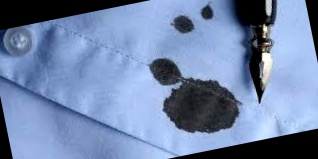ink: (161, 73, 244, 141), (149, 55, 182, 87), (171, 14, 194, 35), (201, 5, 215, 21)
